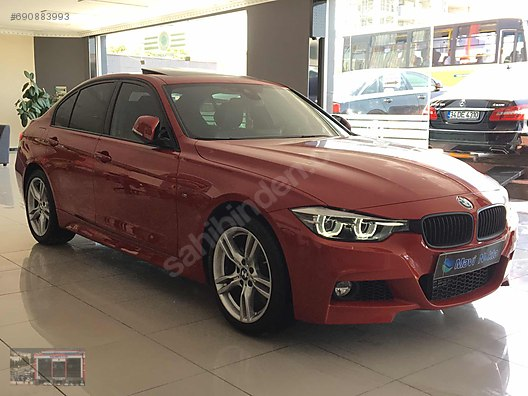bmw: (9, 64, 524, 341)
